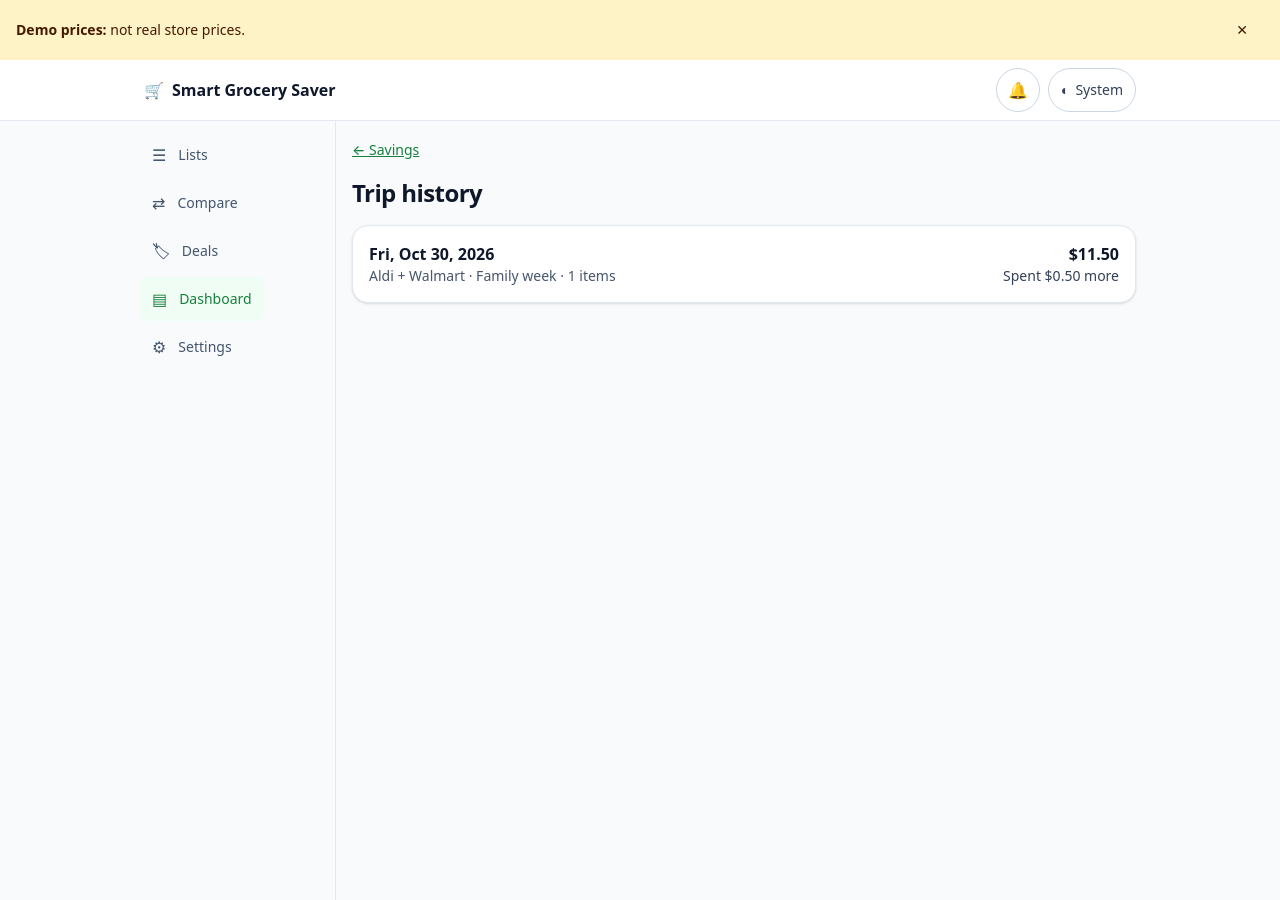
Test: trip history › lists trips with the saving in words and opens the snapshot
What coordinates should you click on to do the following:
click the link that starts with "Fri, Oct 30, 2026"
I would click on:
 (432, 254)
Its box is [352,225,1136,303].
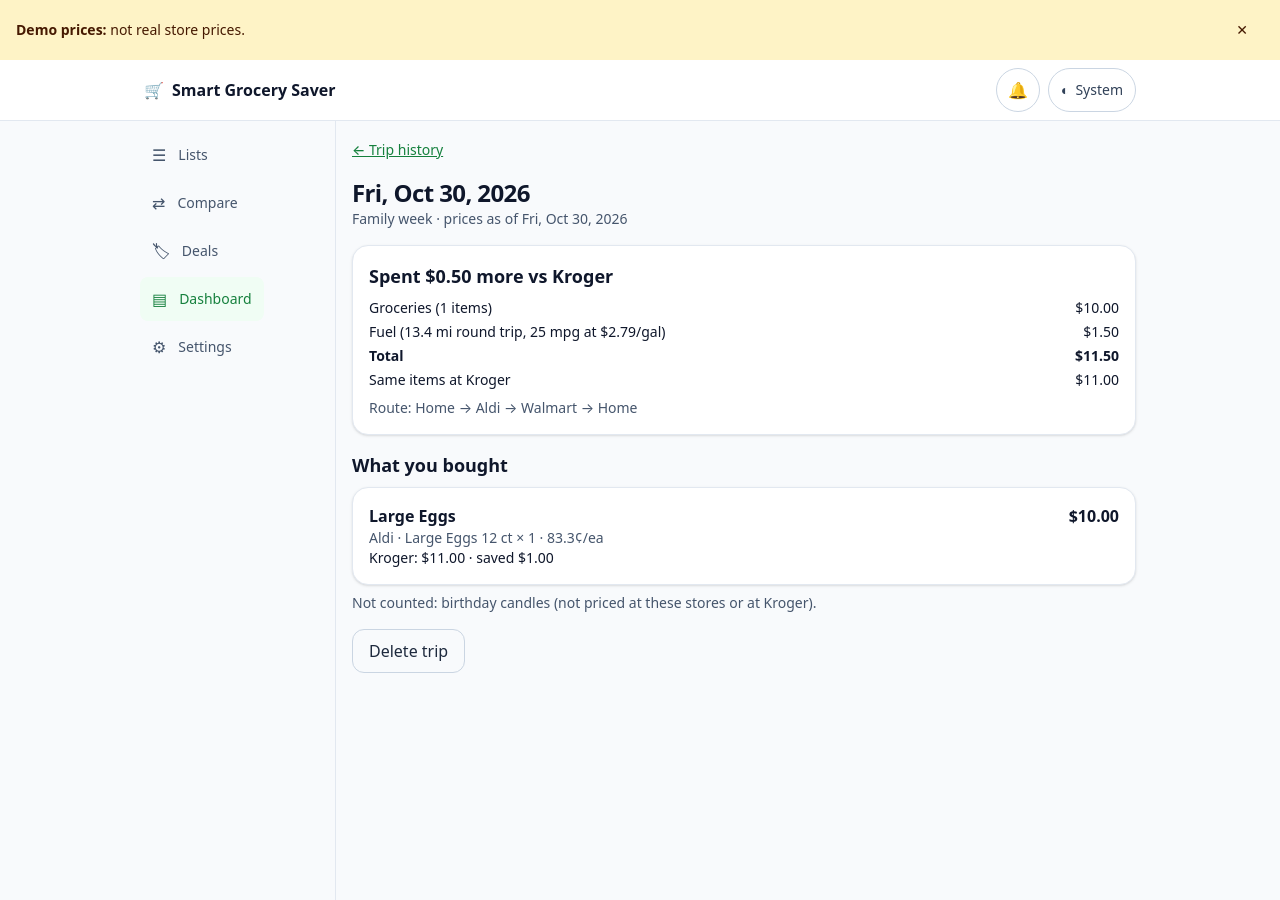
Check: the heading "Spent $0.50 more vs Kroger" is shown, box [369,264,613,288]
Check: the text "Route: Home → Aldi → Walmart → Home" is shown, box [369,398,638,417]
Check: the text "Not counted: birthday candles" is shown, box [352,593,816,612]
